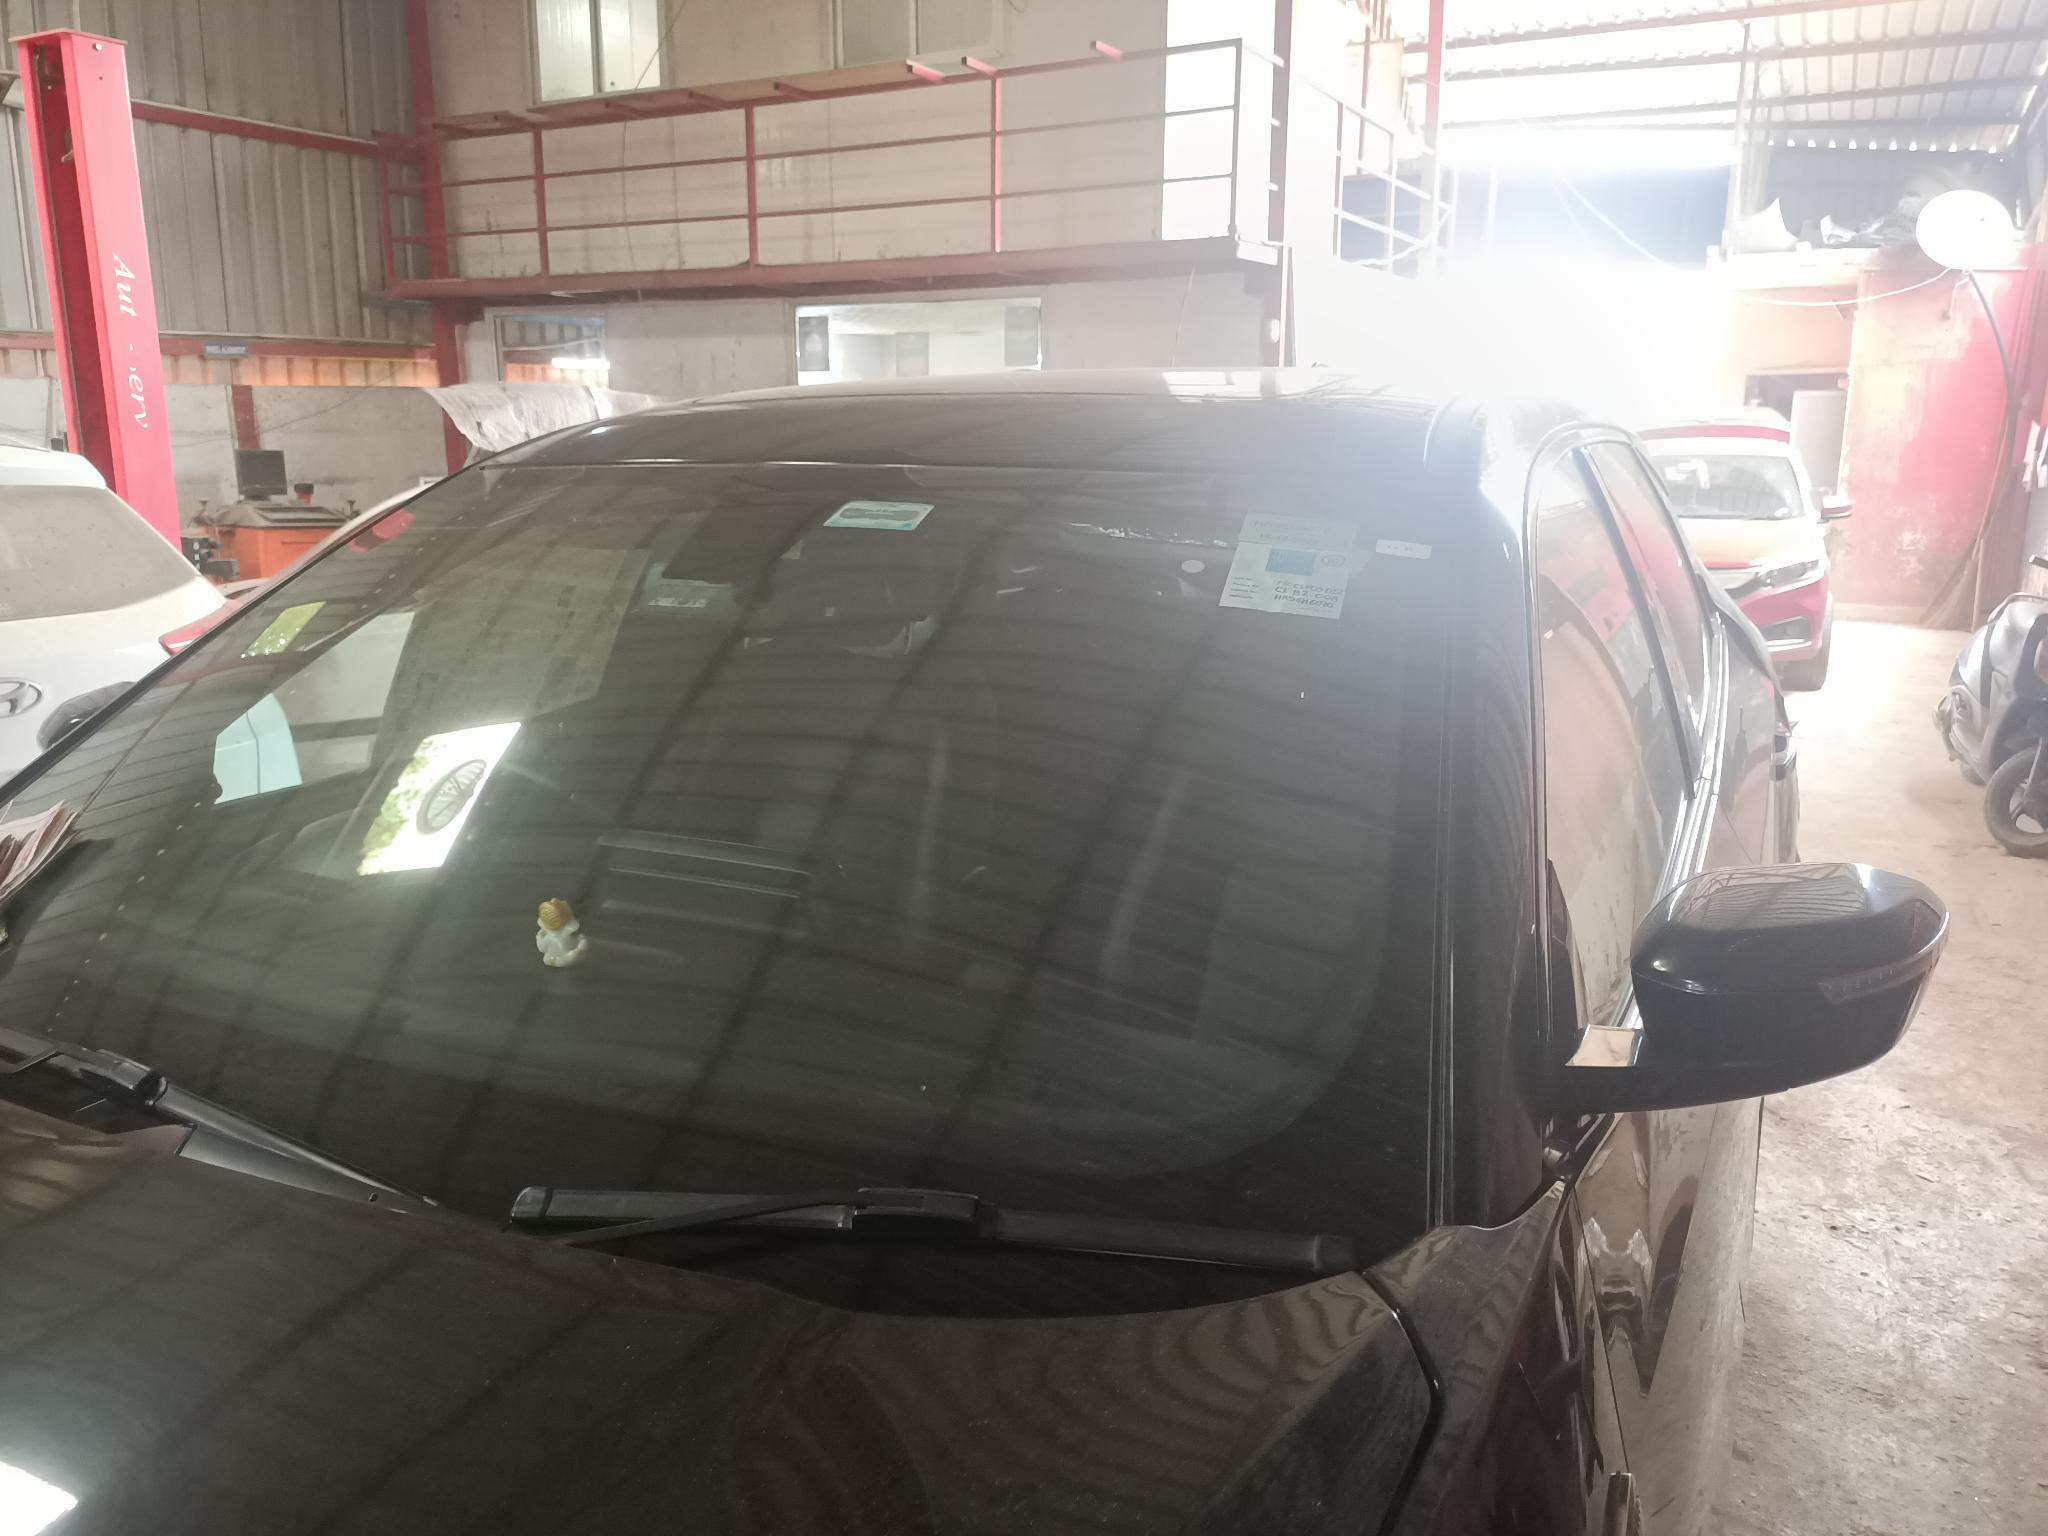FastTag: (821, 484, 943, 547)
not a FastTag: (1198, 505, 1374, 624)
